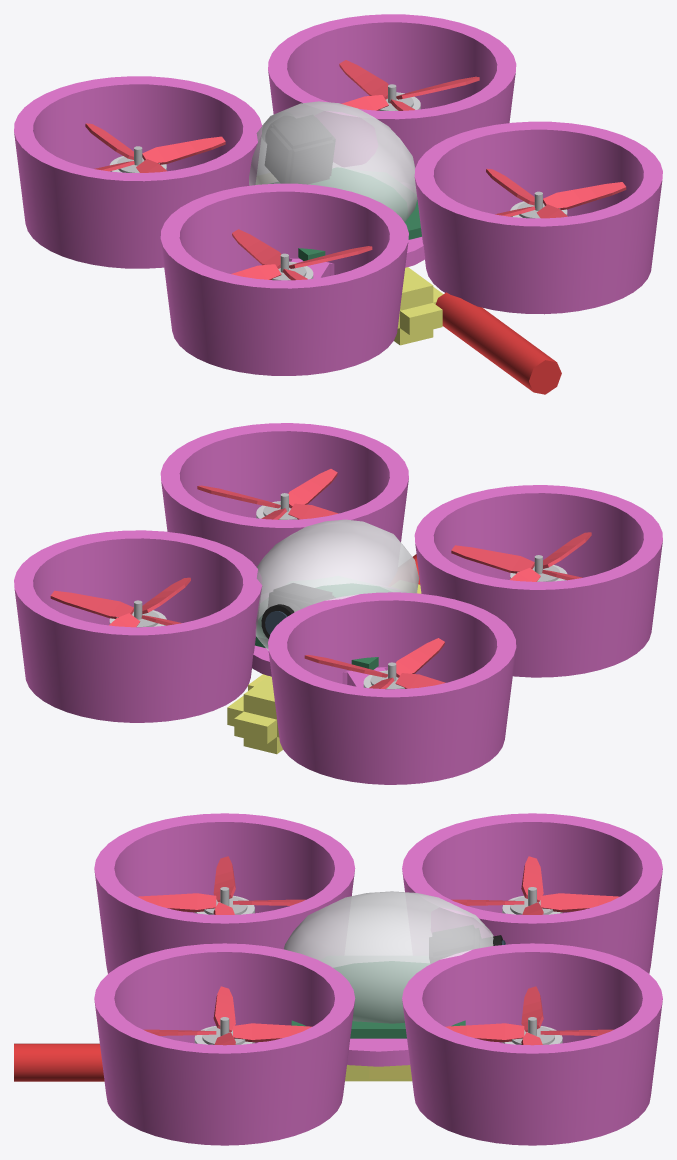
The model's file is tinywhoop.glb.
The picture shows the model from 3 angles, top to bottom: view 1: azimuth 30°, elevation 25°; view 2: azimuth 150°, elevation 25°; view 3: azimuth 270°, elevation 25°; orthographic projection. The views are drawn at different scales.
Parts seen in each view (by area): view 1: body, fpv_cam, prop_FL, prop_RR, prop_RL, prop_FR; view 2: body, prop_FR, prop_RL, prop_FL, prop_RR, fpv_cam; view 3: body, prop_RL, prop_RR, prop_FR, prop_FL, fpv_cam.
Part boxes in pixels (box(x1,y1,x2,y2)): body: box(14, 14, 662, 394); fpv_cam: box(265, 115, 335, 184); prop_FL: box(85, 123, 225, 172); prop_RR: box(486, 168, 626, 218); prop_RL: box(231, 229, 372, 280); prop_FR: box(339, 60, 479, 110); body: box(14, 423, 662, 784); prop_FR: box(50, 577, 190, 627); prop_RL: box(451, 532, 591, 581); prop_FL: box(304, 638, 445, 688); prop_RR: box(197, 469, 338, 519); fpv_cam: box(261, 583, 335, 639); body: box(14, 813, 662, 1145); prop_RL: box(137, 856, 305, 914); prop_RR: box(143, 986, 311, 1045); prop_FR: box(445, 986, 613, 1045); prop_FL: box(451, 856, 619, 914); fpv_cam: box(429, 925, 505, 963).
Bounding box in the file's own units: 0.085 × 0.0285 × 0.097.
